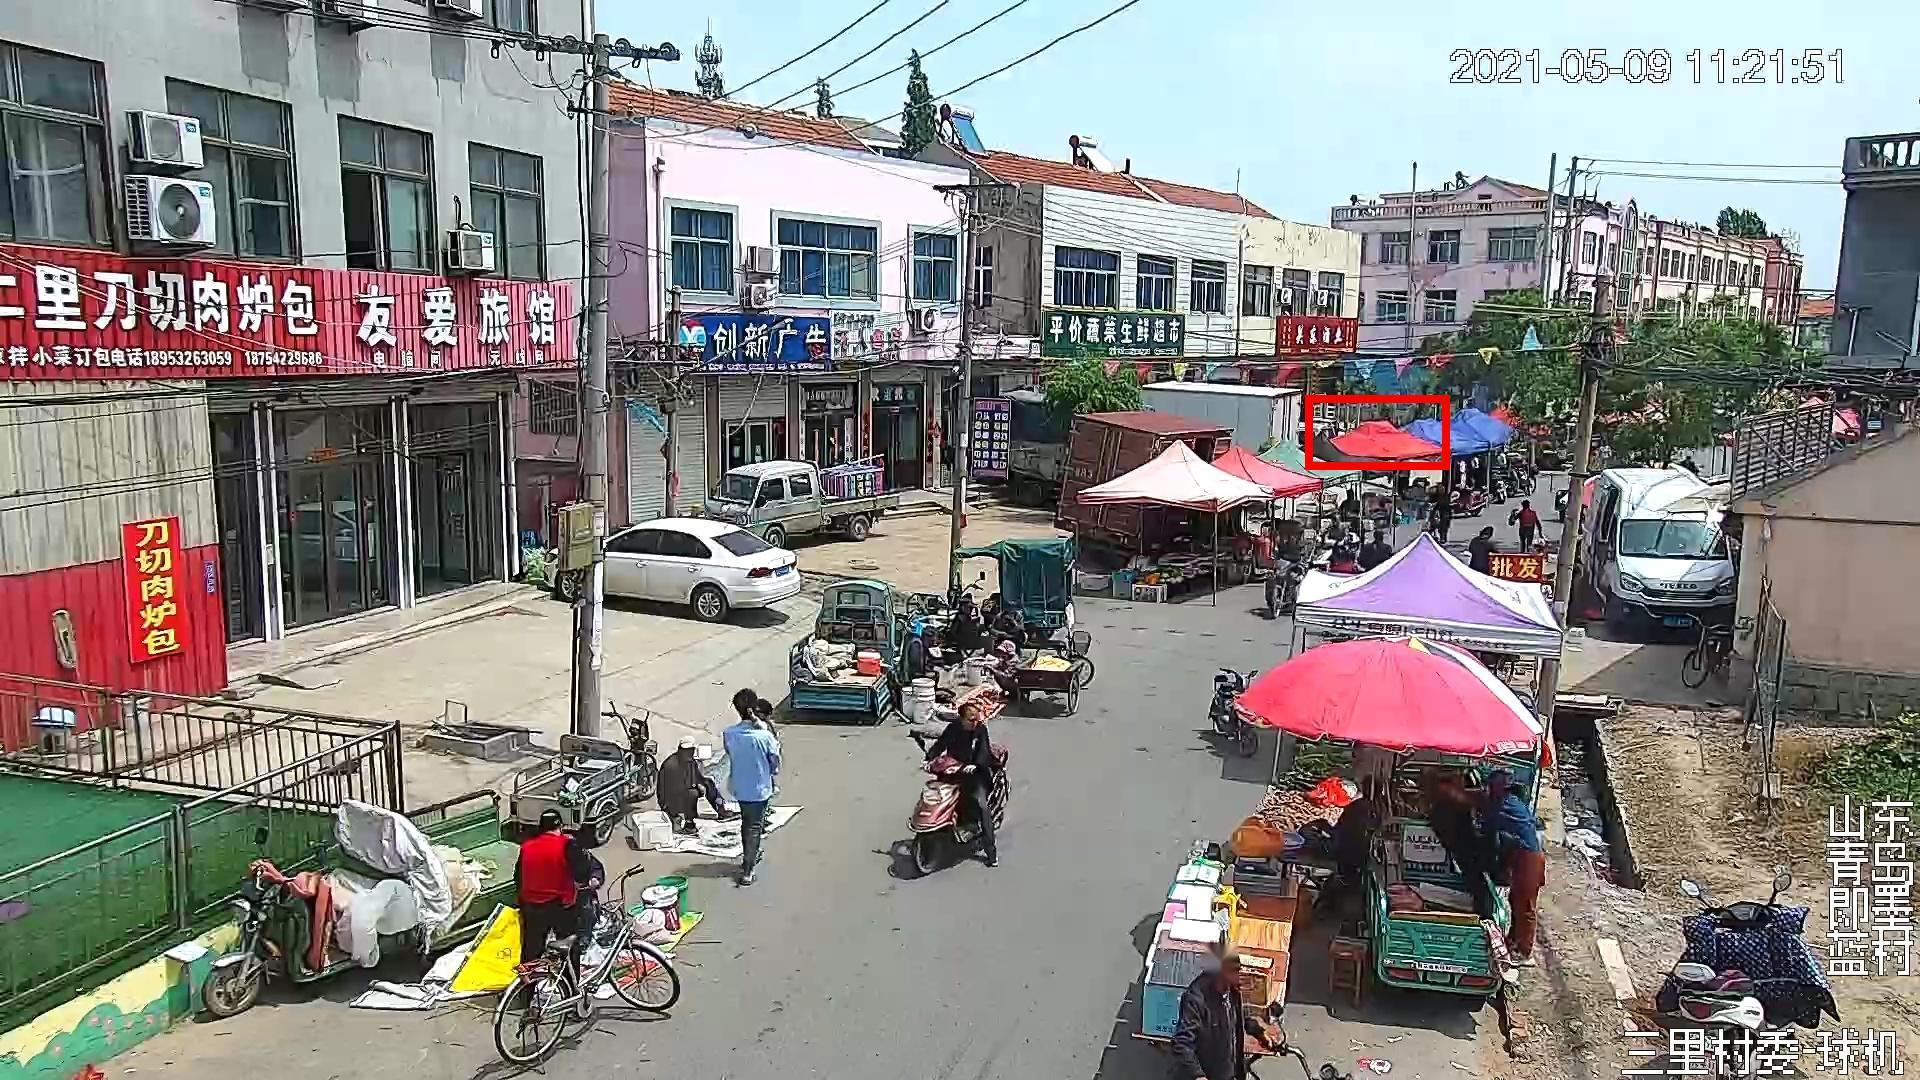chair: (1327, 938, 1369, 1000)
umbrella: (1228, 637, 1539, 761), (1288, 527, 1565, 662), (1073, 438, 1273, 512), (1204, 442, 1323, 501), (1253, 436, 1364, 491), (1294, 429, 1395, 480), (1325, 418, 1445, 459), (1396, 415, 1490, 458), (1440, 407, 1515, 448)
